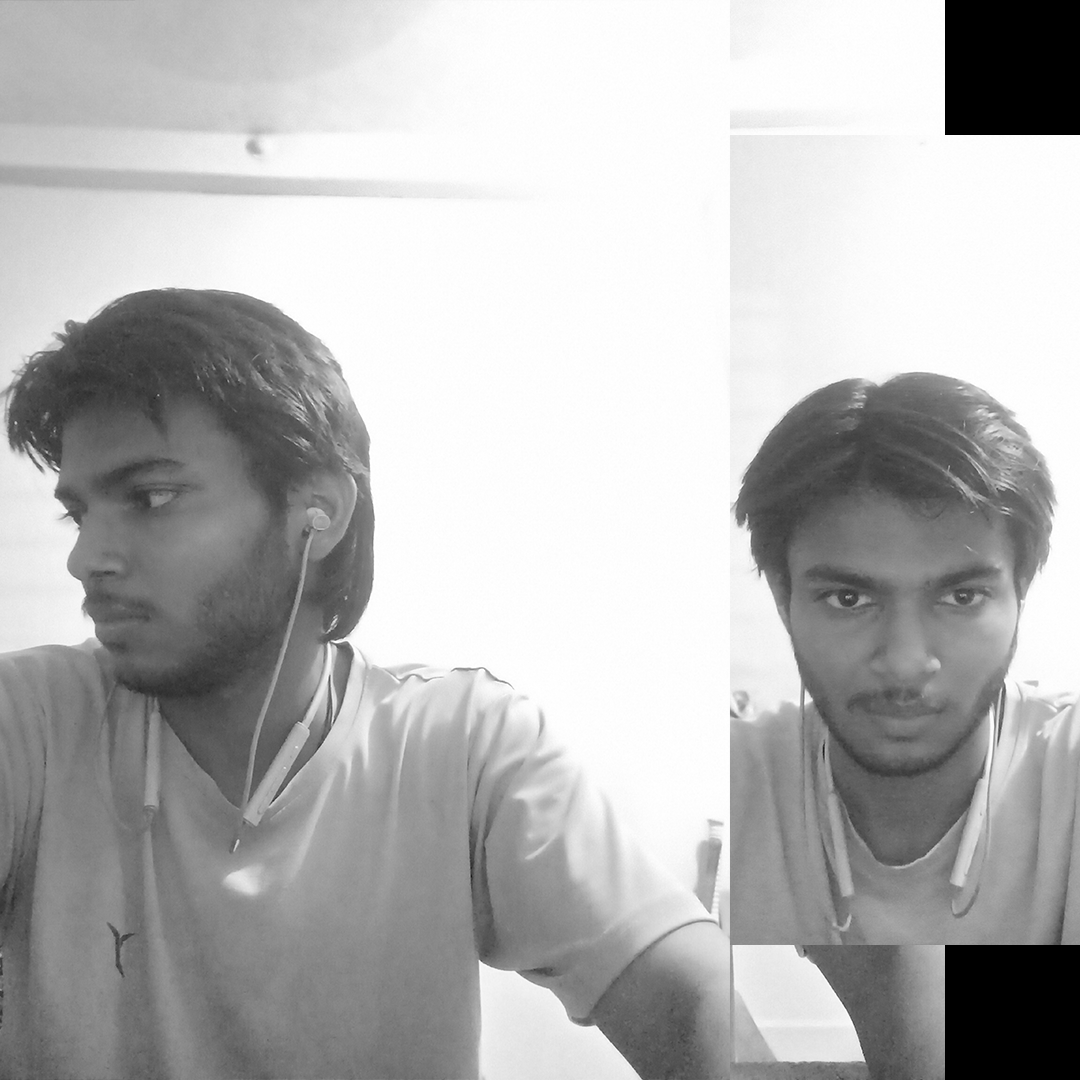Focused: (693, 291, 1060, 942)
distracted: (4, 234, 458, 961)
